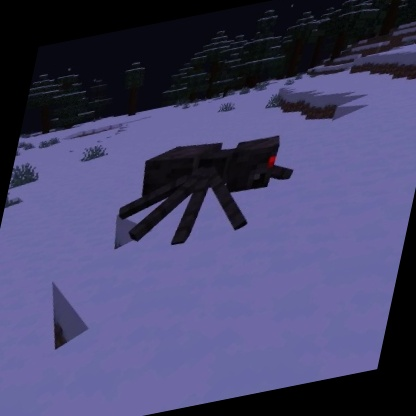spider: (104, 116, 309, 263)
